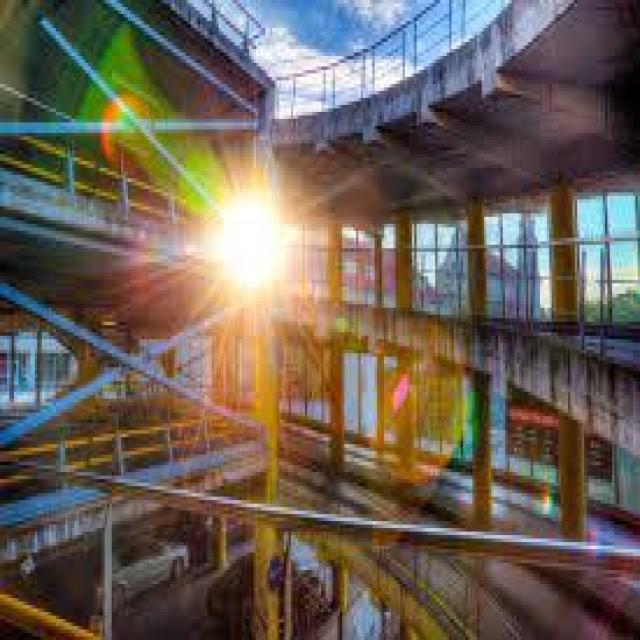other: (176, 159, 310, 295), (390, 353, 453, 472), (256, 351, 294, 460), (98, 74, 146, 153)
